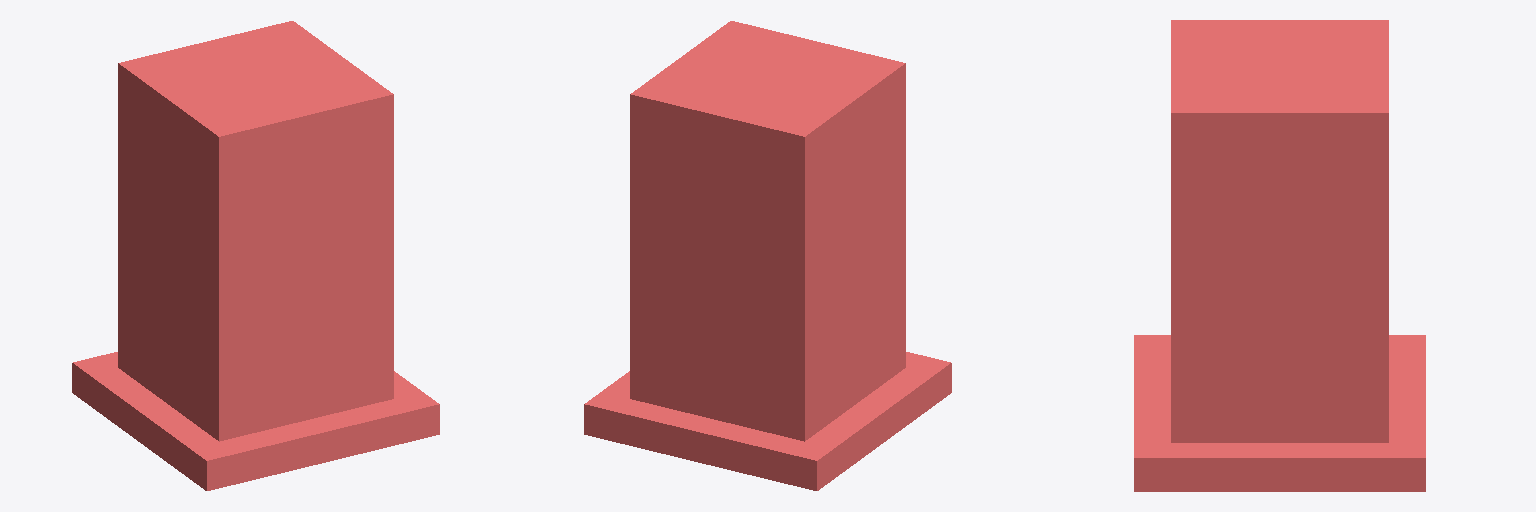
The robot description file, URDF, robot "target_piece":
<?xml version="1.0"?>
<robot name="target_piece">

  <link name="base_link">
    <visual>
      <origin xyz="0 0 0.005" rpy="0 0 0"/>
      <geometry>
        <box size="0.08 0.08 0.01"/>
      </geometry>
      <material name="target_piece_base_material">
        <color rgba="1 0.5 0.5 1"/>
      </material>
    </visual>
    <collision>
      <origin xyz="0 0 0.005" rpy="0 0 0"/>
      <geometry>
        <box size="0.08 0.08 0.01"/>
      </geometry>
    </collision>
  </link>


  <link name="target_piece_body">
    <visual>
      <origin xyz="0 0 0.060000000000000005" rpy="0 0 0.0"/>
      <geometry>
        <box size="0.06 0.06 0.1"/>
      </geometry>
      <material name="target_piece_body_material">
        <color rgba="1 0.5 0.5 1"/>
        
      </material>
    </visual>
    <collision>
      <origin xyz="0 0 0.060000000000000005" rpy="0 0 0.0"/>
      <geometry>
        <box size="0.06 0.06 0.1"/>
      </geometry>
    </collision>
  </link>


  <joint name="base_to_target_piece_body" type="fixed">
    <parent link="base_link"/>
    <child link="target_piece_body"/>
    <origin xyz="0 0 0" rpy="0 0 0"/>
  </joint>

</robot>

--- What the picture shows (computed from the rendered views, not written in the file) ---
The picture shows the robot from 3 angles, left to right: view 1: azimuth 30°, elevation 25°; view 2: azimuth 150°, elevation 25°; view 3: azimuth 270°, elevation 25°; orthographic projection.
Robot: target_piece — 2 links, 1 joints (1 fixed); root link base_link; default pose: all joints at 0.
Visible links, largest first — view 1: target_piece_body, base_link; view 2: target_piece_body, base_link; view 3: target_piece_body, base_link.
Boxes of the visible links, box(x1,y1,x2,y2) form: target_piece_body: box(118, 21, 393, 441); base_link: box(72, 352, 439, 490); target_piece_body: box(630, 21, 905, 441); base_link: box(584, 352, 951, 490); target_piece_body: box(1171, 20, 1388, 442); base_link: box(1134, 335, 1425, 491).
Bounding box of the posed robot: 0.08 × 0.08 × 0.11 m (x, y, z).
Geometry: primitives only (box / cylinder / sphere), no mesh files.